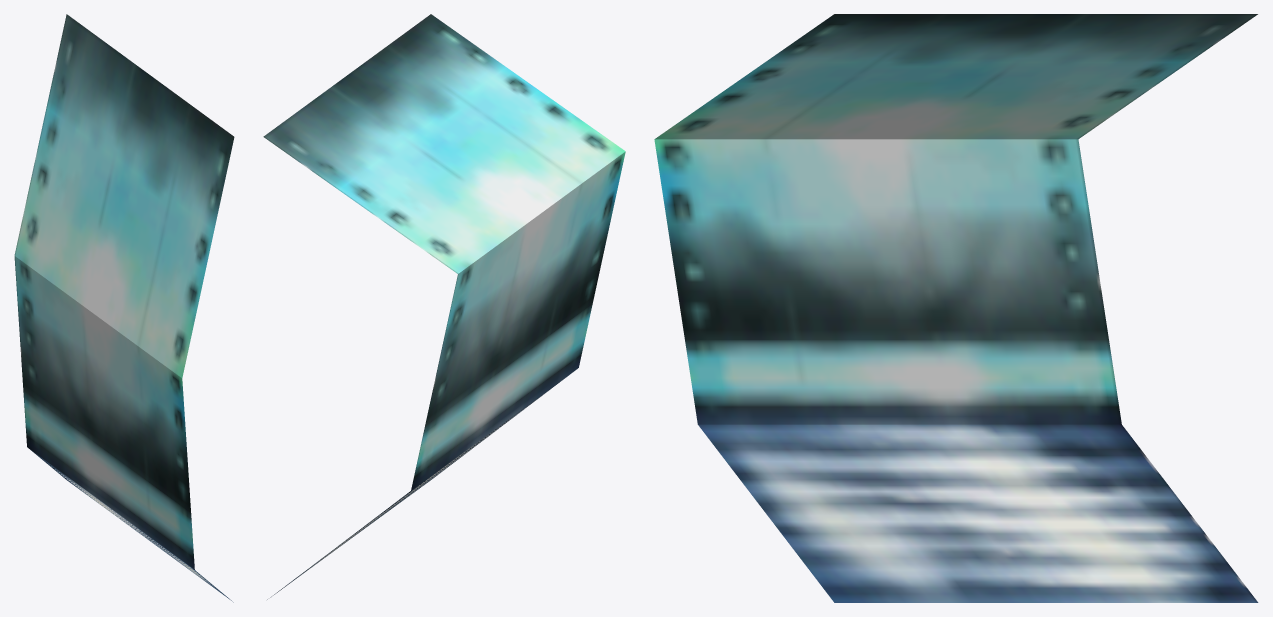
Rendered from W_AI_Gang_DoppelSchräg_Kurz_R_Ministerium_2534.glb.
3 views of the same model, side by side, from view 1: azimuth 30°, elevation 25°; view 2: azimuth 150°, elevation 25°; view 3: azimuth 270°, elevation 25° (orthographic). The views are drawn at different scales.
Visible parts, largest first — view 1: pPlaneShape170; view 2: pPlaneShape170; view 3: pPlaneShape170.
Part boxes in pixels (left/top/right/bottom): pPlaneShape170: left=14, top=14, right=234, bottom=602; pPlaneShape170: left=263, top=14, right=625, bottom=599; pPlaneShape170: left=654, top=14, right=1258, bottom=602.
Bounding box in the file's own units: 0.1079 × 0.3891 × 0.3618.
Materials: 1 (1 with a texture image).
